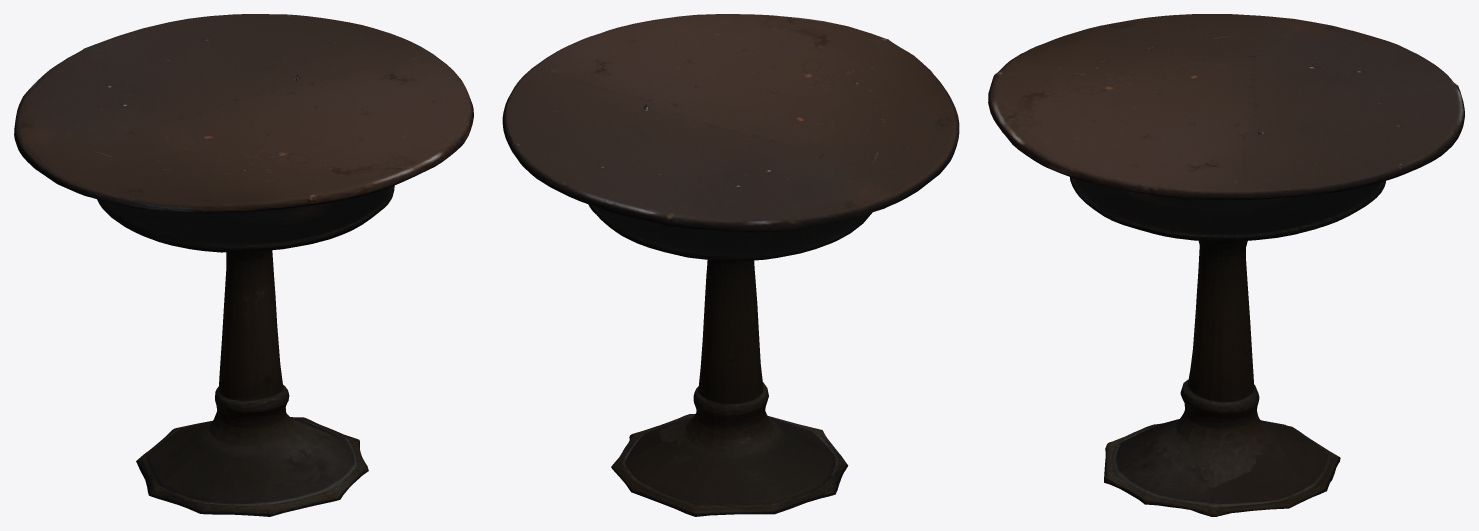
Rendered from velador.glb.
3 views of the same model, side by side, from view 1: azimuth 30°, elevation 25°; view 2: azimuth 150°, elevation 25°; view 3: azimuth 270°, elevation 25° (orthographic). The views are drawn at different scales.
Parts seen in each view (by area): view 1: world; view 2: world; view 3: world.
Part boxes in pixels (box(x1,y1,x2,y2)): world: box(14, 14, 473, 516); world: box(502, 14, 959, 516); world: box(988, 14, 1464, 516).
Bounding box in the file's own units: 0.6259 × 0.5545 × 0.6372.
1 material, 1 textured.
